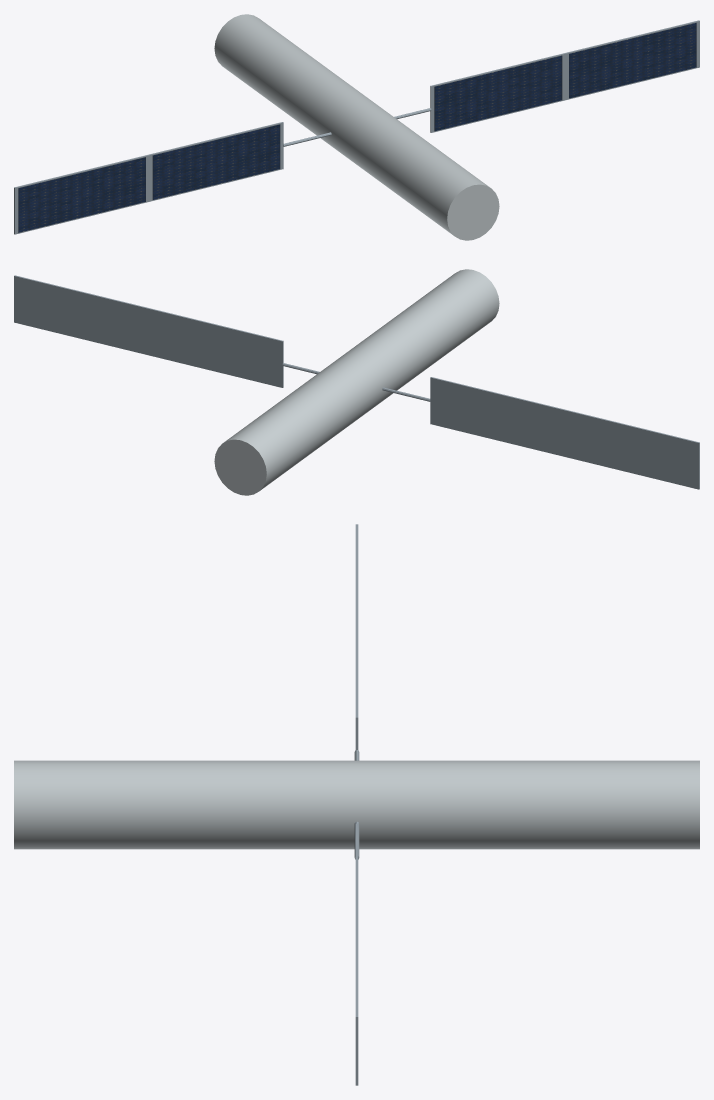
File: ref-us-p-7587.glb
3 renders of one model, top to bottom at view 1: azimuth 30°, elevation 25°; view 2: azimuth 150°, elevation 25°; view 3: azimuth 270°, elevation 25°, orthographic. The views are drawn at different scales.
Visible parts, largest first — view 1: Photovoltaic laminates (×4), Spacecraft body, Array frame (×4); view 2: Array frame (×4), Spacecraft body; view 3: Spacecraft body.
Boxes of the visible parts, bbox=[...] form: Photovoltaic laminates (×4): bbox=[18, 23, 696, 232]; Spacecraft body: bbox=[214, 14, 499, 240]; Array frame (×4): bbox=[14, 20, 699, 234]; Array frame (×4): bbox=[14, 275, 699, 489]; Spacecraft body: bbox=[214, 269, 499, 495]; Spacecraft body: bbox=[14, 760, 699, 849].
Size of the model in its own units: 17 by 1.3 by 10.
Materials: 3 (1 with a texture image).
